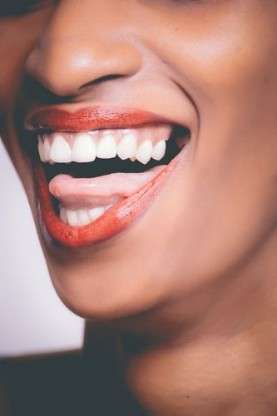张嘴: (14, 104, 191, 261)
